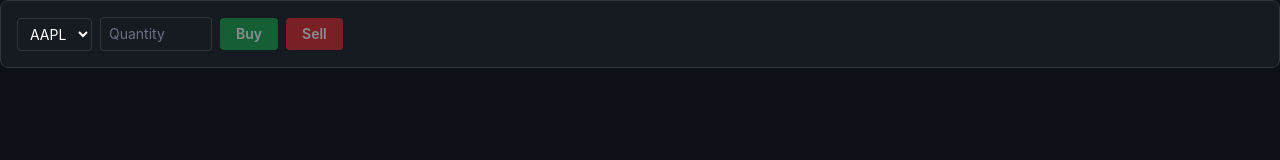
Test case: TradeBar › renders the server error and preserves the entered quantity on a success:false response
Type "1000" into the number field with test id "trade-bar-quantity".
click(156, 34); type("1000")  # box x1=100 y1=17 x2=212 y2=51
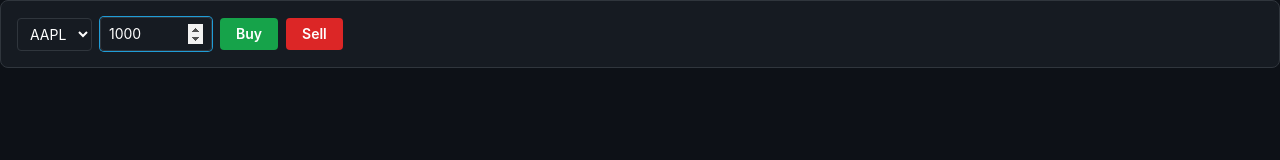
Click the button with test id "trade-bar-buy".
click(249, 34)  # box x1=220 y1=18 x2=278 y2=50
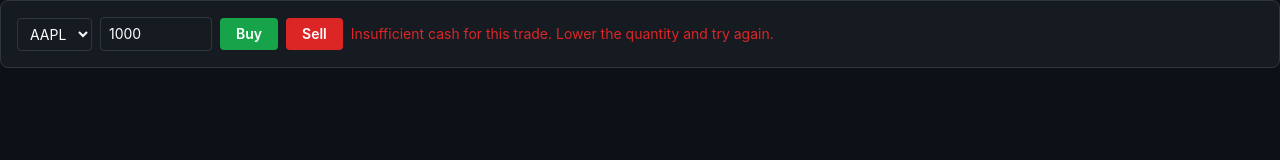
Result: the text with test id "trade-bar-error" reads "Insufficient cash for this trade. Lower the quantity and try again." at x1=351 y1=25 x2=774 y2=42
